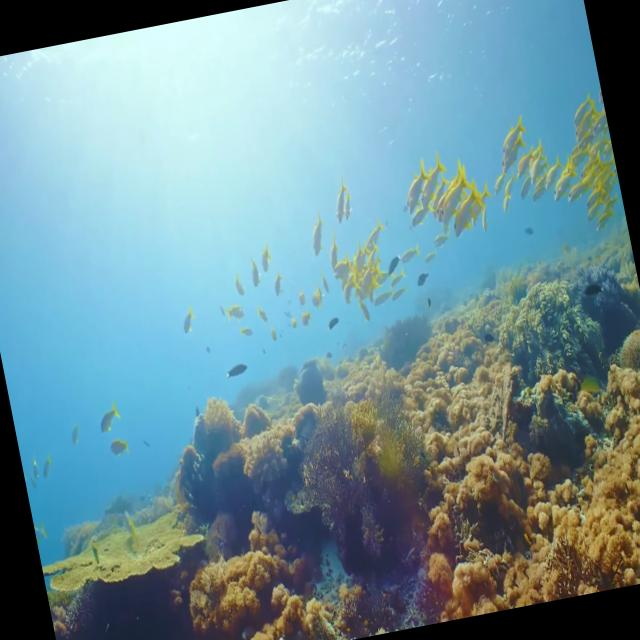fish: (413, 152, 454, 206), (397, 162, 435, 215), (494, 118, 534, 166), (96, 404, 124, 433)
